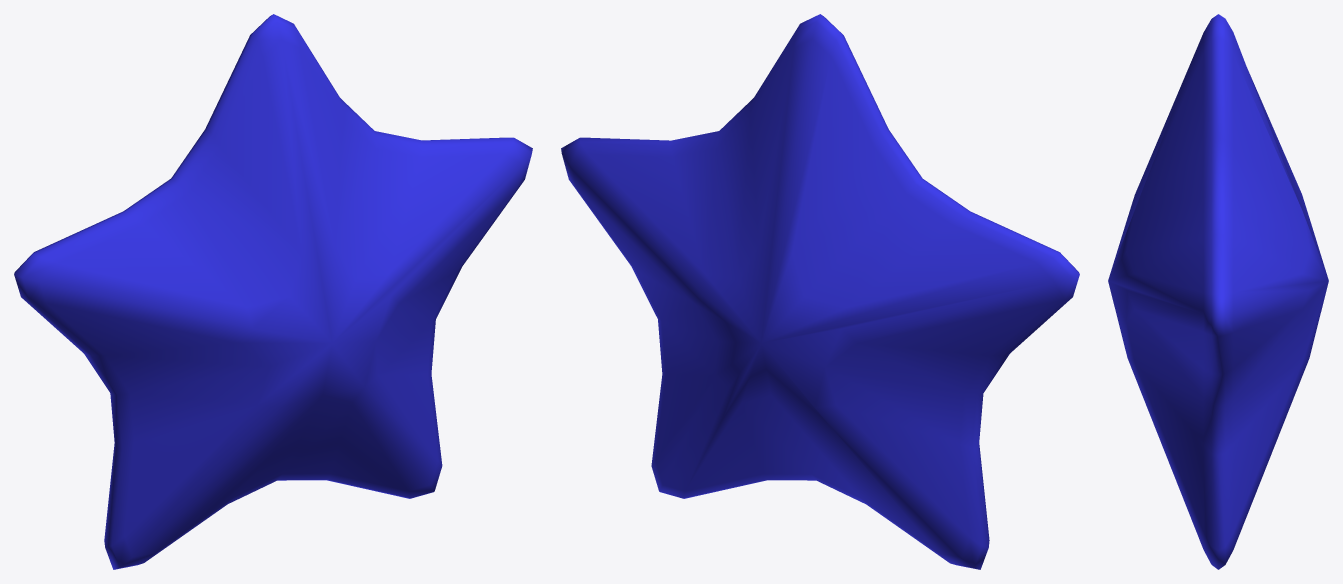
Rendered from star.fbx.
3 views of the same model, side by side, from view 1: azimuth 30°, elevation 25°; view 2: azimuth 150°, elevation 25°; view 3: azimuth 270°, elevation 25° (orthographic). The views are drawn at different scales.
Parts seen in each view (by area): view 1: Circle; view 2: Circle; view 3: Circle.
Part boxes in pixels (x1,y1,x2,y2): Circle: (14, 14, 532, 569); Circle: (561, 14, 1079, 569); Circle: (1108, 14, 1328, 569).
Size of the model in its own units: 2.26 by 2.16 by 0.8932.
